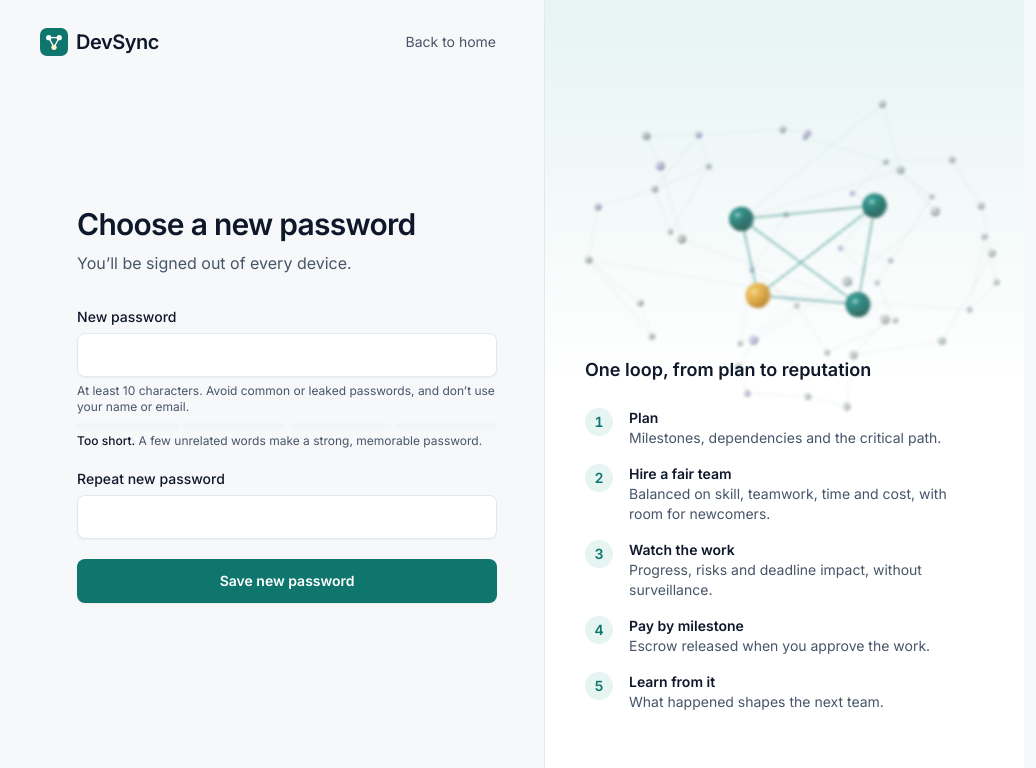
Forgot and reset password › sets a new password from the link
Type "a fresh passphrase 9" into the password field labelled "New password". click: (287, 355)
box: [77, 333, 497, 377]
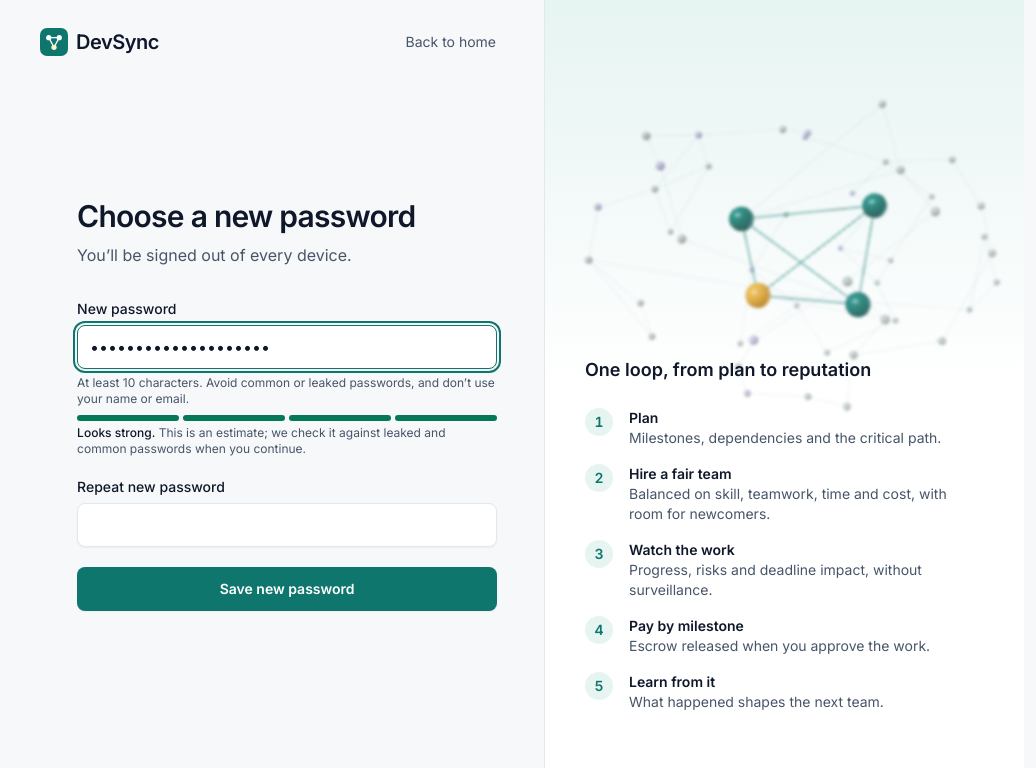
Type "a fresh passphrase 9" into the password field labelled "Repeat new password". click: (287, 525)
box: [77, 503, 497, 547]
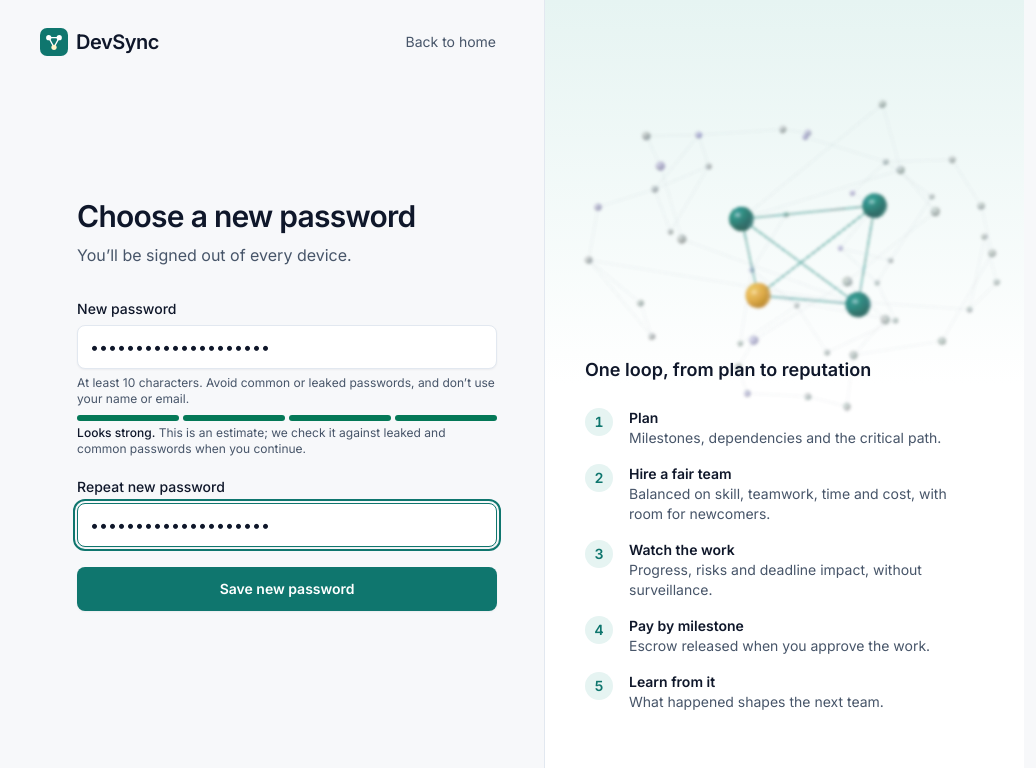
Click the button "Save new password". click: click(287, 589)
box: [77, 567, 497, 611]
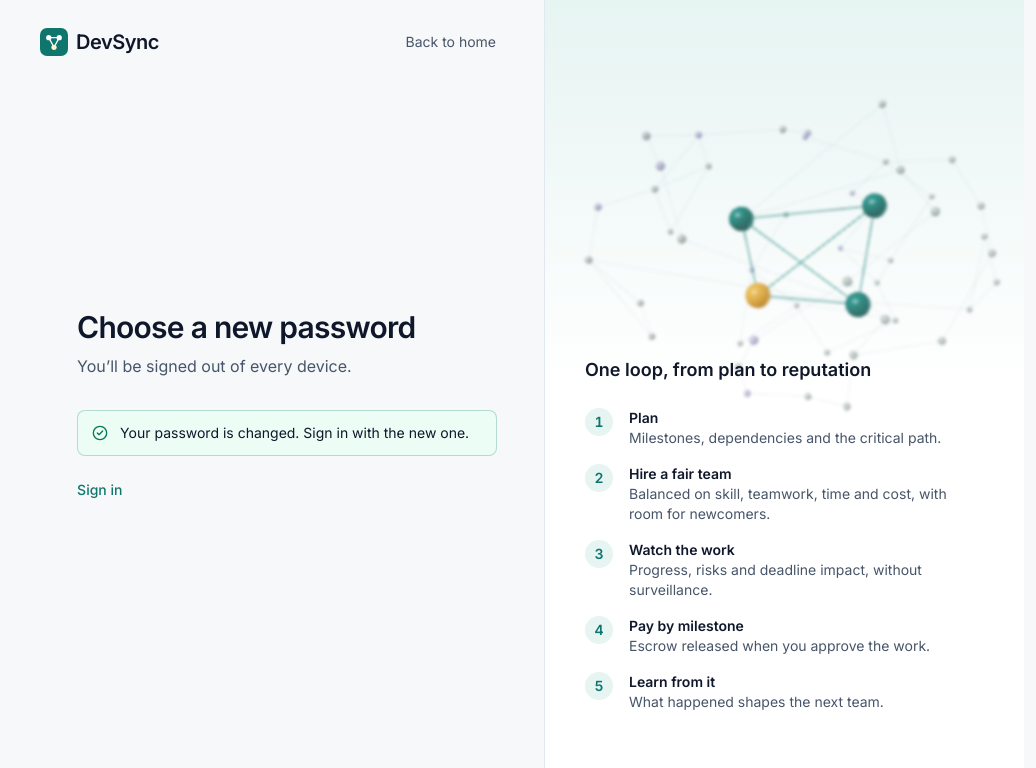
Expected: the text "Your password is changed. Sign in with the new one." is shown, [120, 423, 469, 443]
